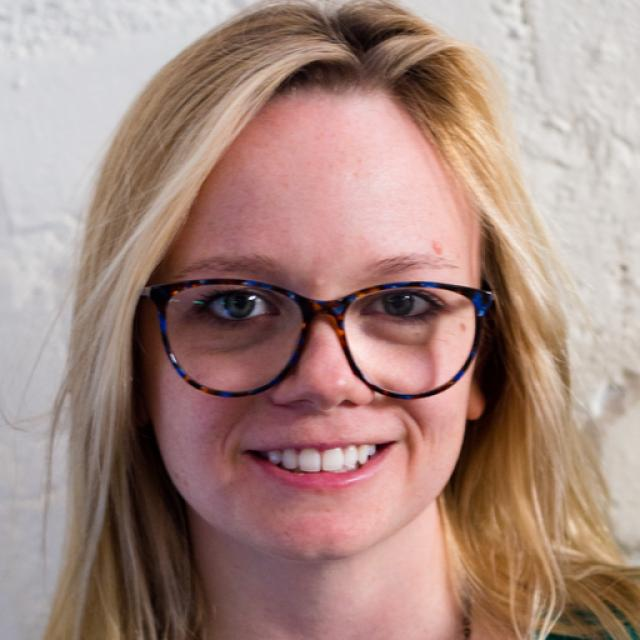Acne: (295, 259, 338, 299), (420, 234, 456, 261)
